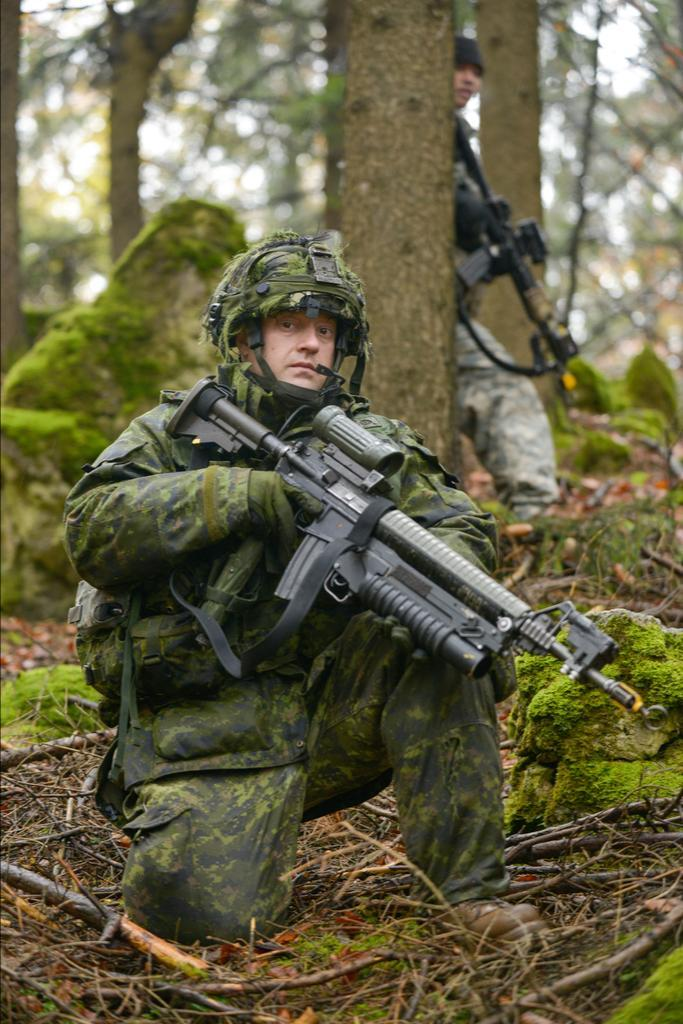gun: (163, 373, 648, 716)
